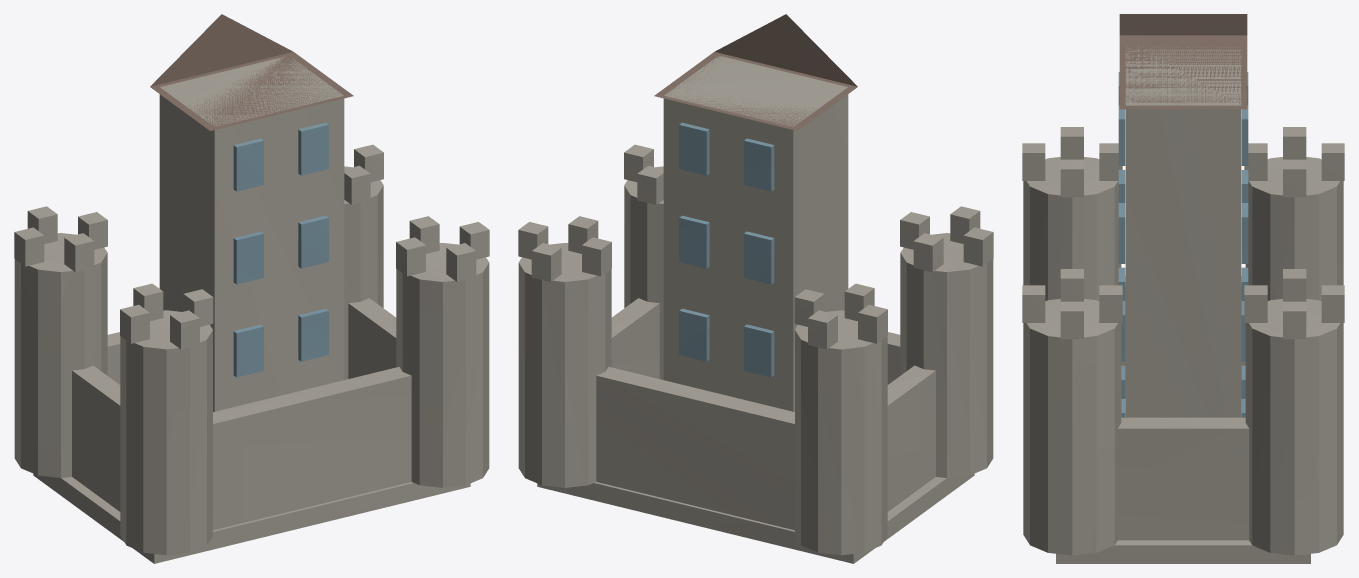
Rendered from castle-02.glb.
3 renders of one model, left to right at view 1: azimuth 30°, elevation 25°; view 2: azimuth 150°, elevation 25°; view 3: azimuth 270°, elevation 25°, orthographic. The views are drawn at different scales.
Visible parts, largest first — view 1: world; view 2: world; view 3: world.
Boxes of the visible parts, x1,y1,x2,y2 form: world: (14,14,489,563); world: (518,14,993,563); world: (1022,14,1344,563).
Size of the model in its own units: 1.7 by 2.01 by 1.25.
